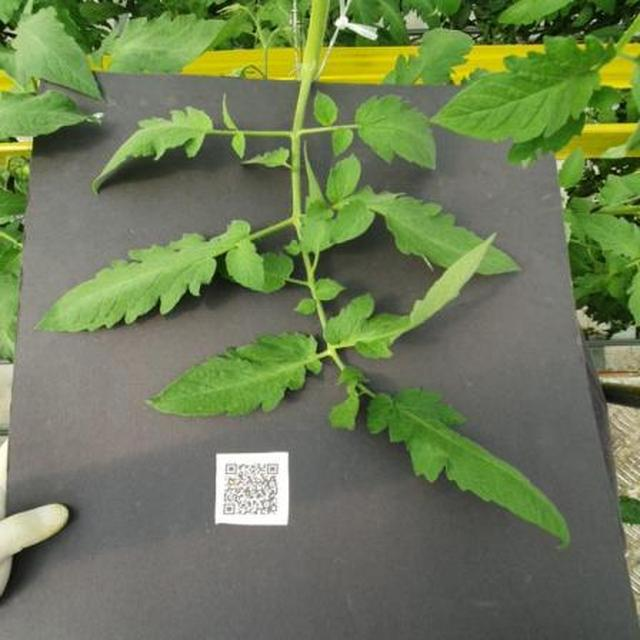Healthy Leaf: (120, 112, 640, 640)
